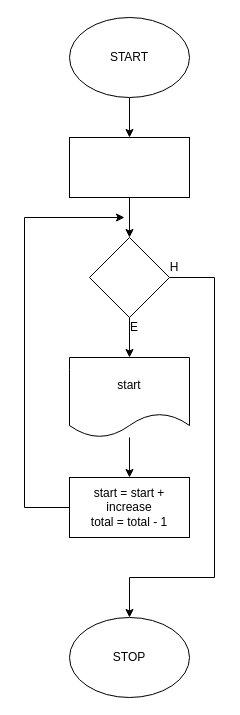
Some shapes in this 240 by 715 pixel diagram are drawn without their labels. The shapes that lost their labels are listed below. From the top down, each one's centre as x and y in pixels, then its label:
At pixel 129 167: "start, total, increase".
At pixel 129 277: "total > 0".
